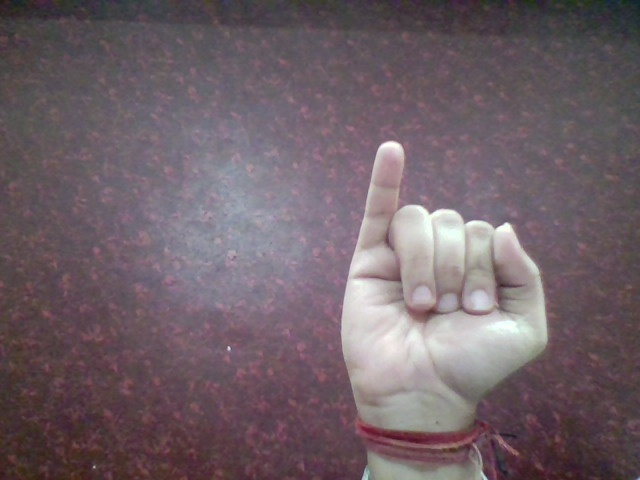i: (332, 133, 560, 425)
